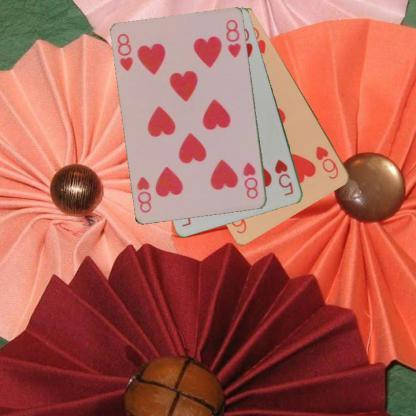5h: (272, 156, 295, 198)
6h: (313, 143, 340, 181)
8h: (115, 30, 135, 72), (240, 160, 260, 200)
